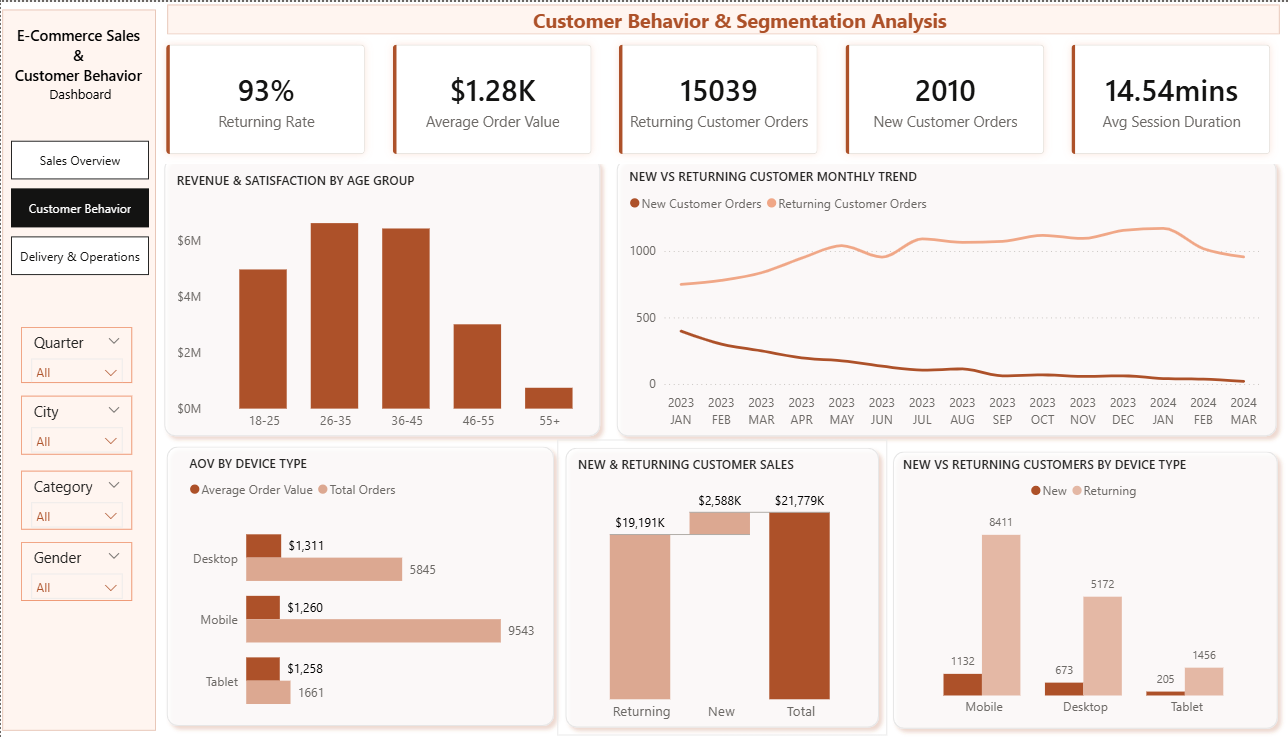

The page's visual inventory and layout, read from the dashboard file:
{"tool":"powerbi","page":{"name":"Customer Behavior","canvas":[1400,800],"ordinal":1},"visuals":[{"type":"shape","box":[1.4,8.2,167.1,784],"z":0},{"type":"shape","box":[168.5,160.3,491.9,320.7],"z":1000},{"type":"shape","box":[960.6,479.6,436.1,319.3],"z":2000},{"type":"shape","box":[171.7,474.4,438.8,321.8],"z":3000},{"type":"textbox","box":[1.4,20.4,169.8,130.4],"z":4000},{"type":"clusteredBarChart","title":"AOV BY DEVICE TYPE","fields":{"Category":["ecommerce_customer_behavior_dataset.Device_Type"],"Y":["ecommerce_customer_behavior_dataset.Average Order Value","ecommerce_customer_behavior_dataset.Total Orders"]},"box":[199.7,491.9,391.3,305.7],"z":5000},{"type":"lineStackedColumnComboChart","title":"REVENUE & SATISFACTION BY AGE GROUP","fields":{"Y":["ecommerce_customer_behavior_dataset.Total Sales"],"Y2":["ecommerce_customer_behavior_dataset.Average Rating"],"Category":["ecommerce_customer_behavior_dataset.Age_Group"]},"box":[185.7,184.4,501.1,290],"z":6000},{"type":"shape","box":[660.3,161.7,735.1,319.3],"z":7000},{"type":"pageNavigator","box":[10.9,150.8,150.8,148.1],"z":11000},{"type":"slicer","fields":{"Values":["date_table.Quarter"]},"box":[21.7,353.3,120.9,61.1],"z":12000},{"type":"slicer","fields":{"Values":["ecommerce_customer_behavior_dataset.City"]},"box":[21.7,428,120.9,63.9],"z":19000},{"type":"slicer","fields":{"Values":["ecommerce_customer_behavior_dataset.Product_Category"]},"box":[21.7,509.5,120.9,63.9],"z":20000},{"type":"shape","box":[180.7,2.7,1209.2,32.6],"z":21000},{"type":"textbox","box":[573.4,0,562.5,50.3],"z":22000},{"type":"shape","box":[604.6,475.5,358.7,322],"z":23000},{"type":"waterfallChart","title":"NEW & RETURNING CUSTOMER SALES","fields":{"Y":["ecommerce_customer_behavior_dataset.Total Sales"],"Category":["ecommerce_customer_behavior_dataset.Retirning or New"]},"box":[622.3,493.2,322,298.9],"z":24000},{"type":"lineChart","title":"NEW VS RETURNING CUSTOMER MONTHLY TREND ","fields":{"Category":["date_table.Year Month"],"Y":["ecommerce_customer_behavior_dataset.New Customer Orders","ecommerce_customer_behavior_dataset.Returning Customer Orders"]},"box":[678,180.7,698.4,289.4],"z":25000},{"type":"clusteredColumnChart","title":"NEW VS RETURNING CUSTOMERS BY DEVICE TYPE","fields":{"Category":["ecommerce_customer_behavior_dataset.Device_Type"],"Y":["ecommerce_customer_behavior_dataset.Total Orders"],"Series":["ecommerce_customer_behavior_dataset.Retirning or New"]},"box":[975.5,493.5,407,292.5],"z":26000},{"type":"slicer","fields":{"Values":["ecommerce_customer_behavior_dataset.Gender"]},"box":[21.7,587,120.9,63.9],"z":27000},{"type":"cardVisual","fields":{"Data":["ecommerce_customer_behavior_dataset.Returning Rate","ecommerce_customer_behavior_dataset.Average Order Value","ecommerce_customer_behavior_dataset.Returning Customer Orders","ecommerce_customer_behavior_dataset.New Customer Orders","ecommerce_customer_behavior_dataset.Avg Session Duration"]},"box":[168.5,35.3,1225.5,141.3],"z":30001}]}

Visuals, with their boxes on the page's 1400x800 design canvas (x1, y1, x2, y2). These are canvas units, not pixel positions in the 1288x737 screenshot, which may show the page scaled, cropped or inside an application window:
shape: (left=1, top=8, right=168, bottom=792)
shape: (left=168, top=160, right=660, bottom=481)
shape: (left=961, top=480, right=1397, bottom=799)
shape: (left=172, top=474, right=610, bottom=796)
textbox: (left=1, top=20, right=171, bottom=151)
"AOV BY DEVICE TYPE" clusteredBarChart: (left=200, top=492, right=591, bottom=798)
"REVENUE & SATISFACTION BY AGE GROUP" lineStackedColumnComboChart: (left=186, top=184, right=687, bottom=474)
shape: (left=660, top=162, right=1395, bottom=481)
pageNavigator: (left=11, top=151, right=162, bottom=299)
slicer - date_table.Quarter: (left=22, top=353, right=143, bottom=414)
slicer - ecommerce_customer_behavior_dataset.City: (left=22, top=428, right=143, bottom=492)
slicer - ecommerce_customer_behavior_dataset.Product_Category: (left=22, top=510, right=143, bottom=573)
shape: (left=181, top=3, right=1390, bottom=35)
textbox: (left=573, top=0, right=1136, bottom=50)
shape: (left=605, top=476, right=963, bottom=798)
"NEW & RETURNING CUSTOMER SALES" waterfallChart: (left=622, top=493, right=944, bottom=792)
"NEW VS RETURNING CUSTOMER MONTHLY TREND " lineChart: (left=678, top=181, right=1376, bottom=470)
"NEW VS RETURNING CUSTOMERS BY DEVICE TYPE" clusteredColumnChart: (left=976, top=494, right=1382, bottom=786)
slicer - ecommerce_customer_behavior_dataset.Gender: (left=22, top=587, right=143, bottom=651)
cardVisual - ecommerce_customer_behavior_dataset.Returning Rate x ecommerce_customer_behavior_dataset.Average Order Value: (left=168, top=35, right=1394, bottom=177)
